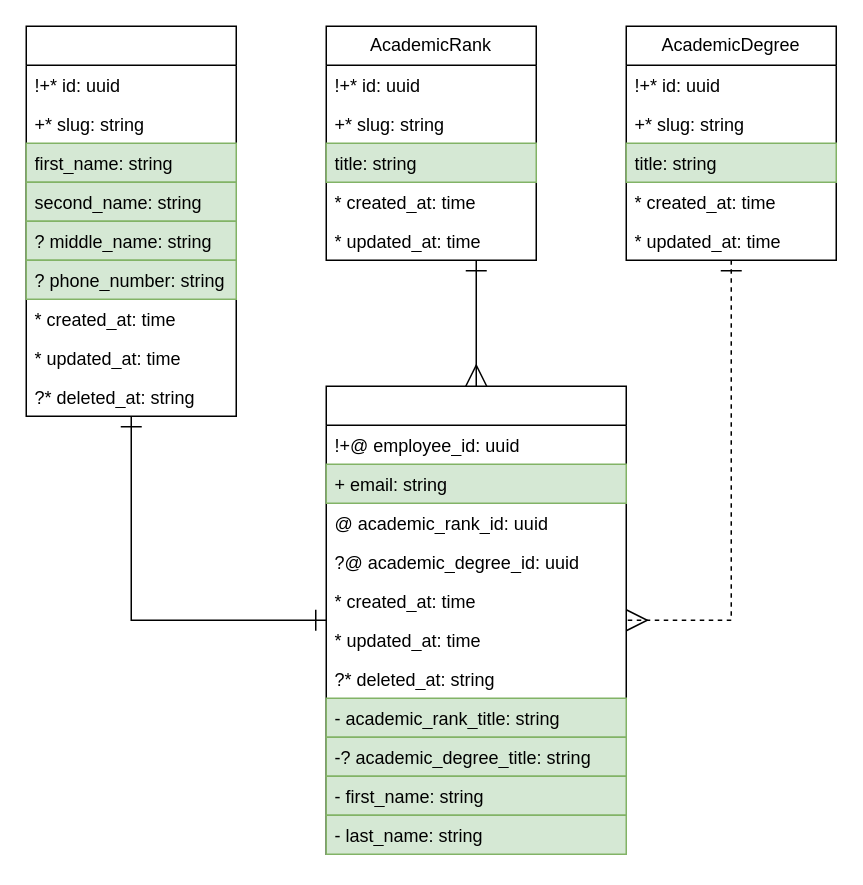
The diagram is 863 pixels wide and 885 high, and some of its shapes have lost their labels. Here are the shapes that lost their labels. From the top down, the box of each, then its label:
(25, 25, 236, 416): Employee
(325, 385, 626, 854): Teacher
